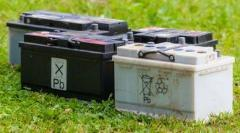electronic: (108, 37, 238, 127)
